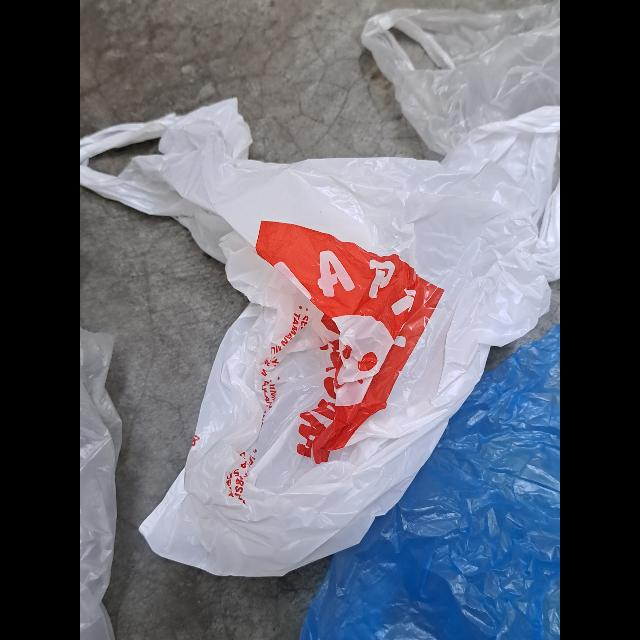sacola plástica: (80, 92, 560, 570), (81, 318, 127, 640)
